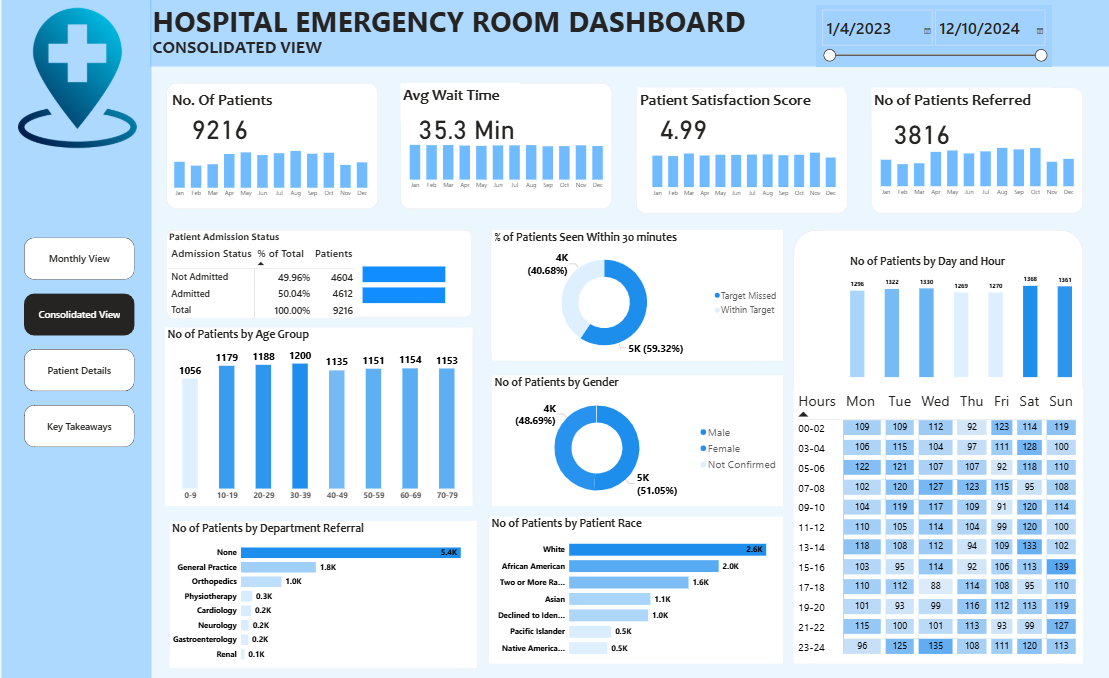

This screenshot's page, from the dashboard's own definition file:
{"tool":"powerbi","page":{"name":"Consolidated View","canvas":[2300,1400],"ordinal":1},"visuals":[{"type":"shape","box":[343.3,173.2,436.1,259.8],"z":0},{"type":"textbox","box":[349.5,182.5,256.7,71.1],"z":1000},{"type":"shape","box":[3.1,0,309.3,1400],"z":2000},{"type":"shape","box":[309.3,0,1991.8,139.2],"z":3000},{"type":"textbox","box":[309.3,0,1246.4,92.8],"z":4000},{"type":"textbox","box":[309.3,71.1,491.8,68],"z":5000},{"type":"card","fields":{"Values":["Hospital ER_Data.No of Patients"]},"box":[371.1,222.7,163.9,80.4],"z":6000},{"type":"slicer","fields":{"Values":["Date Table.Date"]},"box":[1682.5,12.4,485.6,126.8],"z":7000},{"type":"columnChart","fields":{"Y":["Hospital ER_Data.No of Patients"],"Category":["Date Table.month name"]},"box":[340.2,293.8,436.1,125],"z":8000},{"type":"shape","box":[825.8,173.9,436.1,259.8],"z":9000},{"type":"textbox","box":[825.8,173.2,247.4,80.4],"z":10000},{"type":"card","fields":{"Values":["Hospital ER_Data.Avg Wait Time"]},"box":[850.5,222.7,222.7,80.4],"z":11000},{"type":"columnChart","fields":{"Category":["Date Table.month name"],"Y":["Avg(Hospital ER_Data.Patient Waittime)"]},"box":[825.8,278.4,436.1,123.7],"z":12000},{"type":"shape","box":[1311.4,182.5,436.1,259.8],"z":13000},{"type":"textbox","box":[1314.5,182.5,426.8,80.4],"z":14000},{"type":"card","fields":{"Values":["Hospital ER_Data.Satisfaction Score"]},"box":[1326.8,222.7,163.9,80.4],"z":15000},{"type":"columnChart","fields":{"Category":["Date Table.month name"],"Y":["Hospital ER_Data.Satisfaction Score"]},"box":[1326.8,293.8,414.4,123.7],"z":16000},{"type":"shape","box":[1796.9,182.5,436.1,259.8],"z":17000},{"type":"textbox","box":[1796.9,182.5,371.1,80.4],"z":18000},{"type":"card","fields":{"Values":["Hospital ER_Data.No of Patient Referred"]},"box":[1818.6,232,163.9,80.4],"z":19000},{"type":"columnChart","fields":{"Category":["Date Table.month name"],"Y":["Hospital ER_Data.No of Patient Referred"]},"box":[1796.9,290.7,436.1,125],"z":20000},{"type":"shape","box":[343.3,476.3,630,180],"z":21000},{"type":"pivotTable","title":"Patient Admission Status","fields":{"Rows":["Hospital ER_Data.Admission Status"],"Values":["Hospital ER_Data.No of Patients","Hospital ER_Data.No of Patients1"]},"box":[343.3,476.3,630.9,201],"z":22000},{"type":"barChart","fields":{"Category":["Hospital ER_Data.Admission Status"],"Y":["Hospital ER_Data.No of Patients"]},"box":[742.3,516.5,232,139.2],"z":23000},{"type":"shape","box":[340.2,677.3,634,368],"z":24000},{"type":"clusteredColumnChart","fields":{"Category":["Hospital ER_Data.Age Group"],"Y":["Hospital ER_Data.No of Patients"]},"box":[340.2,677.3,634,368],"z":25000},{"type":"shape","box":[349.5,1076.3,634,293.8],"z":26000},{"type":"shape","box":[1011.4,476.3,600,270],"z":27000},{"type":"clusteredBarChart","fields":{"Category":["Hospital ER_Data.Department Referral"],"Y":["Hospital ER_Data.No of Patients"]},"box":[349.5,1076.3,634,303.1],"z":28000},{"type":"donutChart","title":"% of Patients Seen Within 30 minutes","fields":{"Category":["Hospital ER_Data.Waittime Status"],"Y":["Hospital ER_Data.No of Patients"]},"box":[1014.5,476.3,600,269.1],"z":29000},{"type":"donutChart","title":"No of Patients by Gender","fields":{"Y":["Hospital ER_Data.No of Patients"],"Category":["Hospital ER_Data.Patient Gender"]},"box":[1014.5,776.3,600,269.1],"z":30000},{"type":"clusteredBarChart","fields":{"Y":["Hospital ER_Data.No of Patients"],"Category":["Hospital ER_Data.Patient Race"]},"box":[1008.3,1067,606.2,303.1],"z":31000},{"type":"shape","box":[1636.1,476.3,596.9,893.8],"z":32000},{"type":"pivotTable","fields":{"Rows":["Hospital ER_Data.Waittime Interval"],"Columns":["Date Table.Day Name"],"Values":["Hospital ER_Data.No of Patients"]},"box":[1636.1,801,596.9,569.1],"z":33000},{"type":"clusteredColumnChart","title":"No of Patients by Day and Hour","fields":{"Category":["Date Table.Day Name"],"Y":["Hospital ER_Data.No of Patients"]},"box":[1747.5,525.8,470.1,259.8],"z":34000},{"type":"image","box":[9.3,12.4,300,300],"z":35000},{"type":"pageNavigator","box":[49.5,491.8,228.9,433],"z":36000}]}

Visuals, with their boxes in screenshot pixels (x1, y1, x2, y2), scaled from the page's 2300x1400 canvas onto the 1109x678 screenshot:
shape: <box>166,84,376,210</box>
textbox: <box>169,88,292,123</box>
shape: <box>1,0,151,677</box>
shape: <box>149,0,1108,67</box>
textbox: <box>149,0,750,45</box>
textbox: <box>149,34,386,67</box>
card - Hospital ER_Data.No of Patients: <box>179,108,258,147</box>
slicer - Date Table.Date: <box>811,6,1045,67</box>
columnChart - Hospital ER_Data.No of Patients x Date Table.month name: <box>164,142,374,203</box>
shape: <box>398,84,608,210</box>
textbox: <box>398,84,517,123</box>
card - Hospital ER_Data.Avg Wait Time: <box>410,108,517,147</box>
columnChart - Date Table.month name x Avg(Hospital ER_Data.Patient Waittime): <box>398,135,608,195</box>
shape: <box>632,88,843,214</box>
textbox: <box>634,88,840,127</box>
card - Hospital ER_Data.Satisfaction Score: <box>640,108,719,147</box>
columnChart - Date Table.month name x Hospital ER_Data.Satisfaction Score: <box>640,142,840,202</box>
shape: <box>866,88,1077,214</box>
textbox: <box>866,88,1045,127</box>
card - Hospital ER_Data.No of Patient Referred: <box>877,112,956,151</box>
columnChart - Date Table.month name x Hospital ER_Data.No of Patient Referred: <box>866,141,1077,201</box>
shape: <box>166,231,469,318</box>
"Patient Admission Status" pivotTable: <box>166,231,470,328</box>
barChart - Hospital ER_Data.Admission Status x Hospital ER_Data.No of Patients: <box>358,250,470,318</box>
shape: <box>164,328,470,506</box>
clusteredColumnChart - Hospital ER_Data.Age Group x Hospital ER_Data.No of Patients: <box>164,328,470,506</box>
shape: <box>169,521,474,664</box>
shape: <box>488,231,777,361</box>
clusteredBarChart - Hospital ER_Data.Department Referral x Hospital ER_Data.No of Patients: <box>169,521,474,668</box>
"% of Patients Seen Within 30 minutes" donutChart: <box>489,231,778,361</box>
"No of Patients by Gender" donutChart: <box>489,376,778,506</box>
clusteredBarChart - Hospital ER_Data.No of Patients x Hospital ER_Data.Patient Race: <box>486,517,778,664</box>
shape: <box>789,231,1077,664</box>
pivotTable - Hospital ER_Data.Waittime Interval x Date Table.Day Name: <box>789,388,1077,664</box>
"No of Patients by Day and Hour" clusteredColumnChart: <box>843,255,1069,380</box>
image: <box>4,6,149,151</box>
pageNavigator: <box>24,238,134,448</box>
